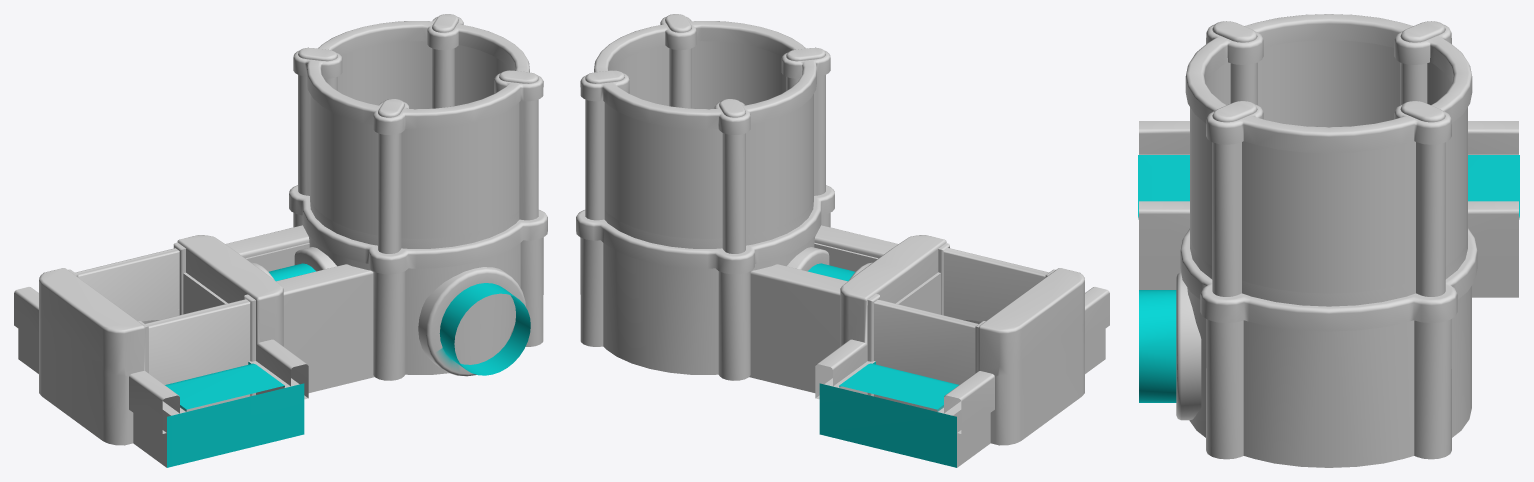
File: PainterFullInternalVariant.gltf
3 views of the same model, side by side, from view 1: azimuth 30°, elevation 25°; view 2: azimuth 150°, elevation 25°; view 3: azimuth 270°, elevation 25° (orthographic). The views are drawn at different scales.
Visible parts, largest first — view 1: FullPainter_Main_Default_LOD0, FullPainter_Glas_Default_LOD0, FullPainter_Walls_Default_LOD0; view 2: FullPainter_Main_Default_LOD0, FullPainter_Glas_Default_LOD0, FullPainter_Walls_Default_LOD0; view 3: FullPainter_Main_Default_LOD0, FullPainter_Glas_Default_LOD0.
Part boxes in pixels (x1,y1,x2,y2): FullPainter_Main_Default_LOD0: [14, 14, 547, 467]; FullPainter_Glas_Default_LOD0: [269, 41, 519, 281]; FullPainter_Walls_Default_LOD0: [75, 248, 250, 411]; FullPainter_Main_Default_LOD0: [576, 14, 1109, 467]; FullPainter_Glas_Default_LOD0: [604, 41, 854, 281]; FullPainter_Walls_Default_LOD0: [874, 248, 1048, 411]; FullPainter_Main_Default_LOD0: [1138, 14, 1519, 467]; FullPainter_Glas_Default_LOD0: [1190, 40, 1467, 293].
Size of the model in its own units: 1.74 by 1.01 by 1.
